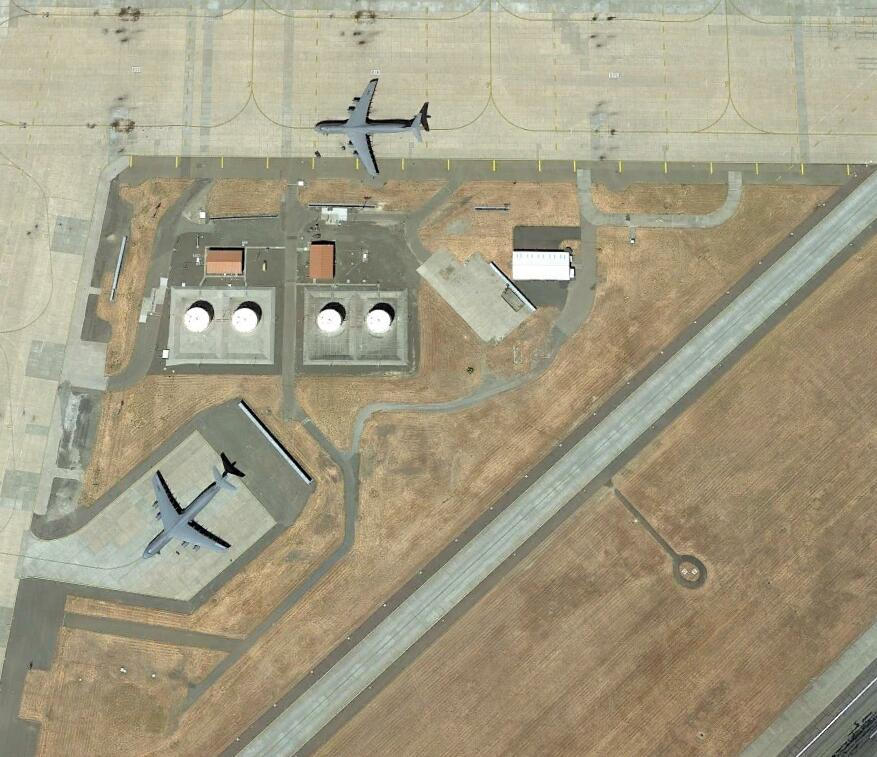A4: (314, 76, 426, 180), (144, 462, 240, 563)
